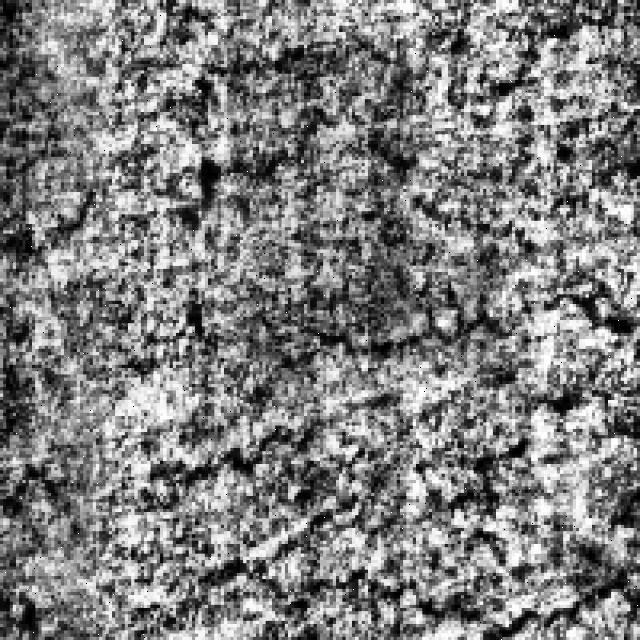Pitted_Surface: (195, 308, 557, 487), (99, 83, 480, 240), (195, 524, 630, 630)
